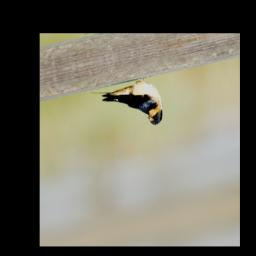Swallow: (89, 72, 165, 139)
